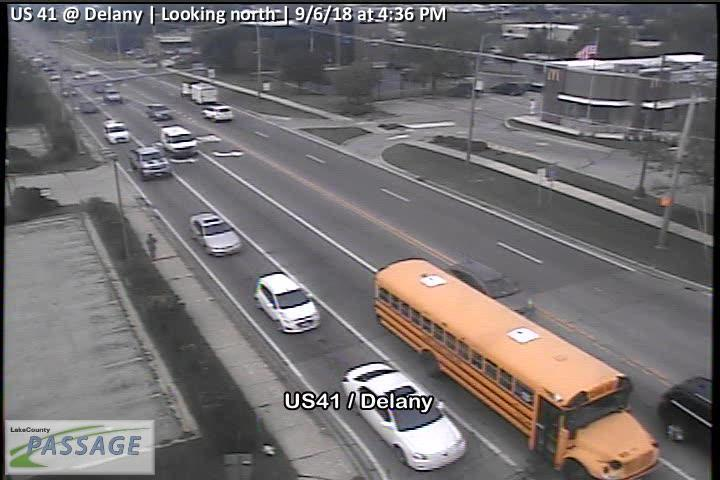Bus: (372, 256, 666, 480)
SUV: (446, 259, 535, 318), (252, 270, 322, 334), (657, 374, 712, 451), (160, 124, 199, 158), (101, 118, 131, 145), (446, 81, 478, 99), (489, 80, 522, 95), (102, 89, 123, 103), (180, 80, 193, 96)
Sedan: (341, 360, 468, 473), (188, 212, 242, 257), (201, 102, 235, 122), (145, 102, 171, 121), (524, 79, 546, 93), (79, 98, 98, 114)
Truck: (127, 144, 173, 181), (191, 83, 218, 103)
